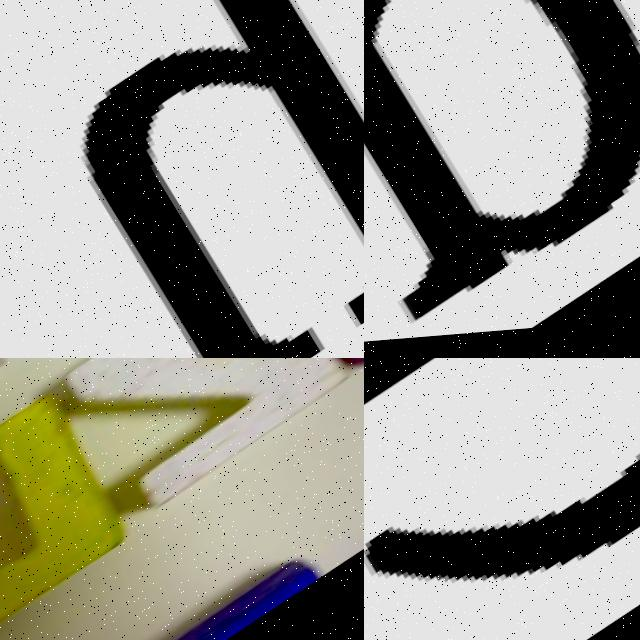D: (364, 0, 640, 358)
E: (364, 459, 640, 591)
H: (81, 0, 364, 358)
L: (0, 396, 127, 640)
Z: (48, 358, 352, 537)
